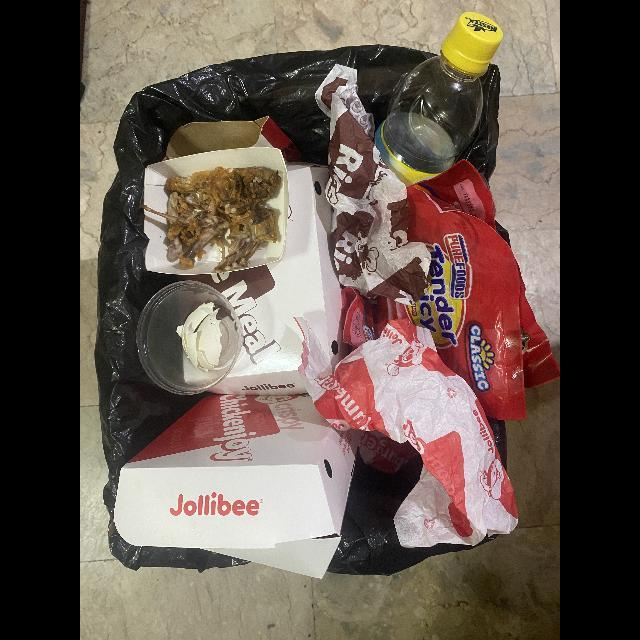biowaste: (163, 167, 283, 271), (177, 304, 239, 373)
paper: (294, 317, 520, 548), (113, 394, 365, 581), (169, 162, 352, 399), (315, 63, 432, 304), (163, 117, 293, 164)
plastic: (376, 13, 505, 187)
wrapper: (336, 159, 560, 421)
